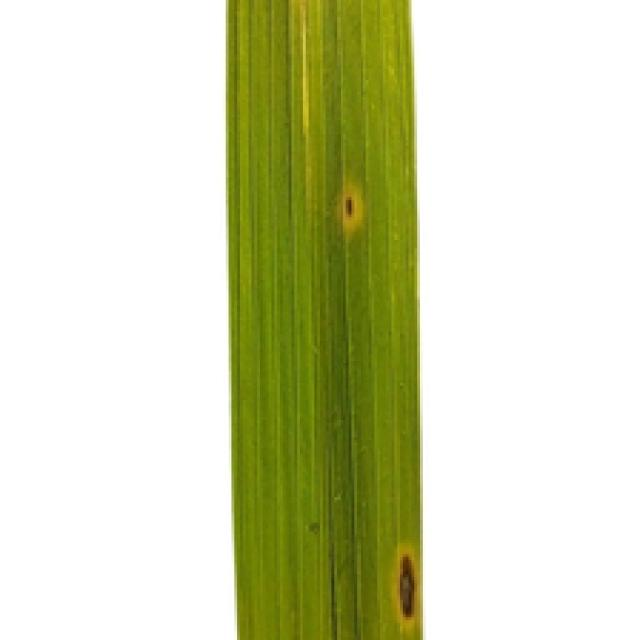Rice___Rice_Blast: (222, 0, 424, 637)
